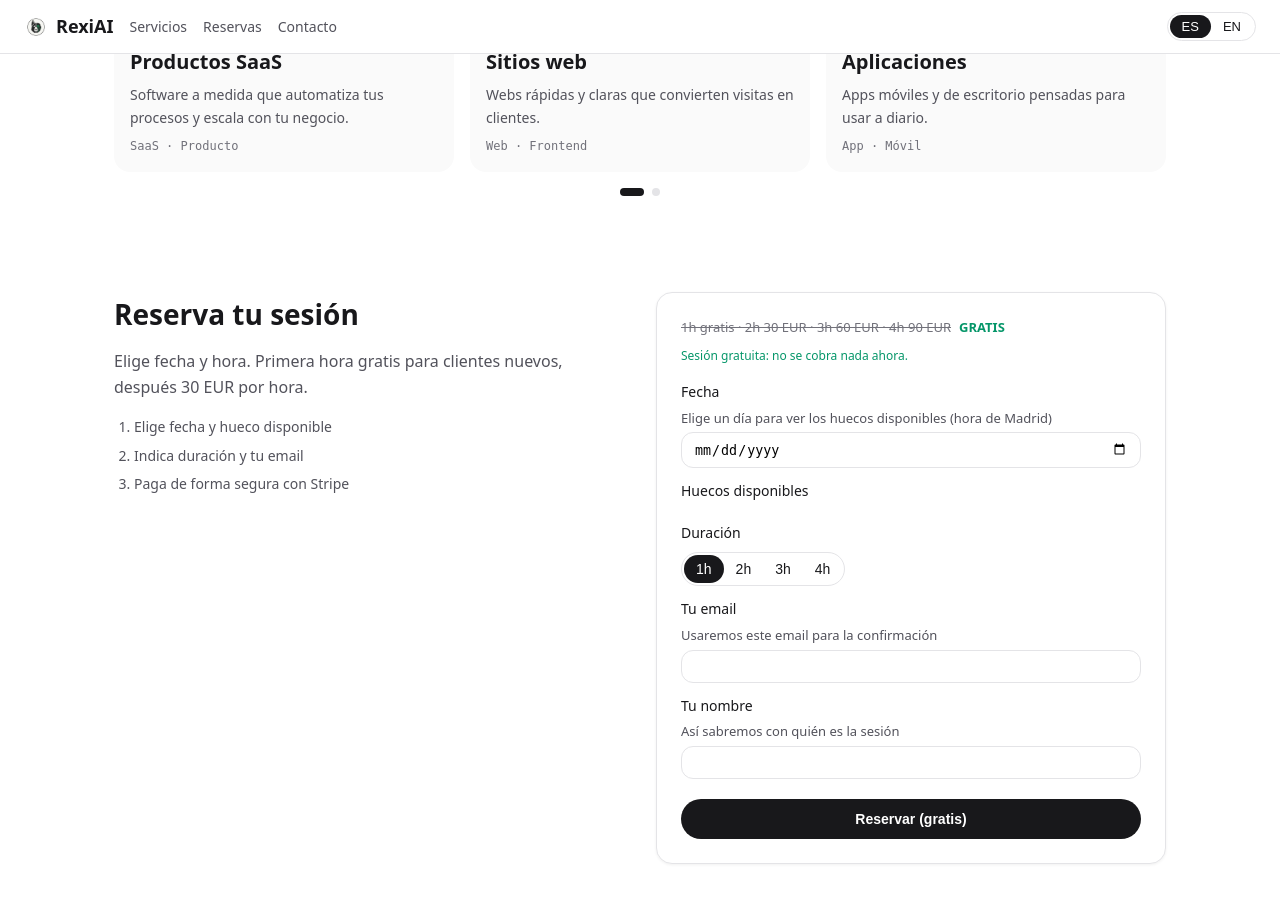
Test: AC-002-17: confirmation panel replaces the form (es) › AC-002-17: panel copy is dictionary-only — no internal-state words leak
The image size is (1280, 900).
(page scrolled)
Type "2027-03-01" into the date field with id "booking-date".
click(911, 450); type("2027-03-01")  # box [681,432,1141,468]
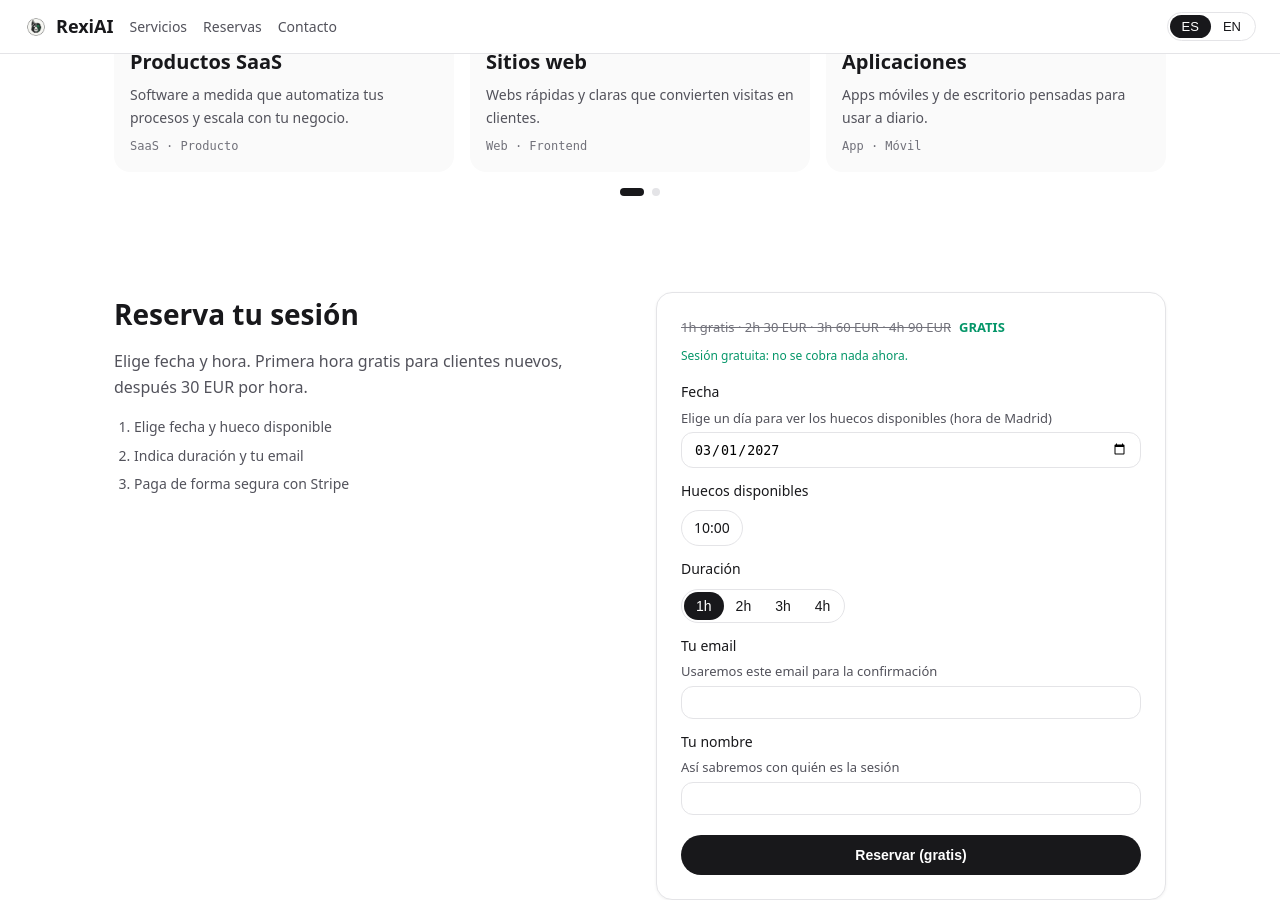
Now the radio button "10:00" is shown
Click the radio button "10:00".
click(712, 528)  # box [681,510,743,546]
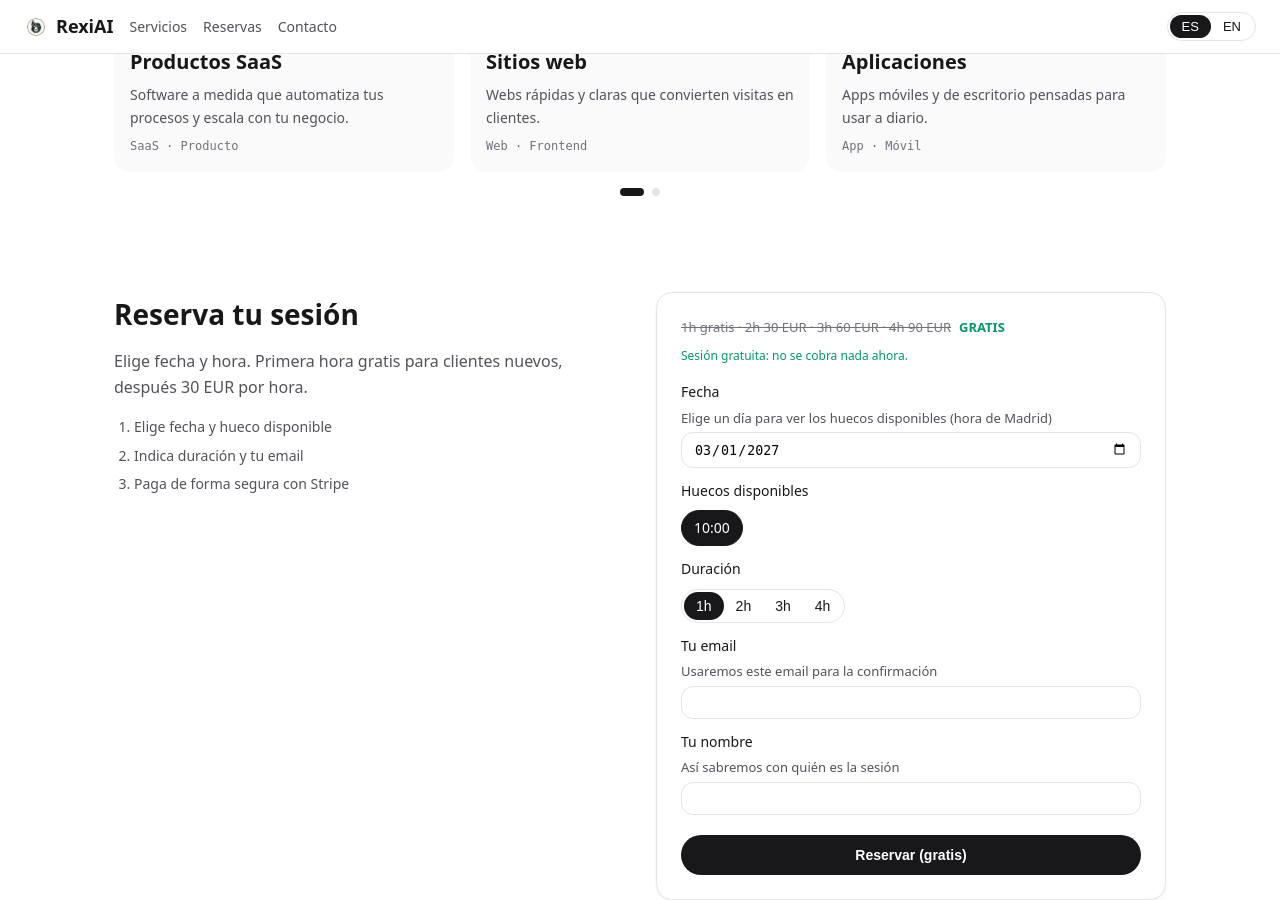
Type "test@example.com" into the field with id "booking-email".
click(911, 702); type("test@example.com")  # box [681,686,1141,719]
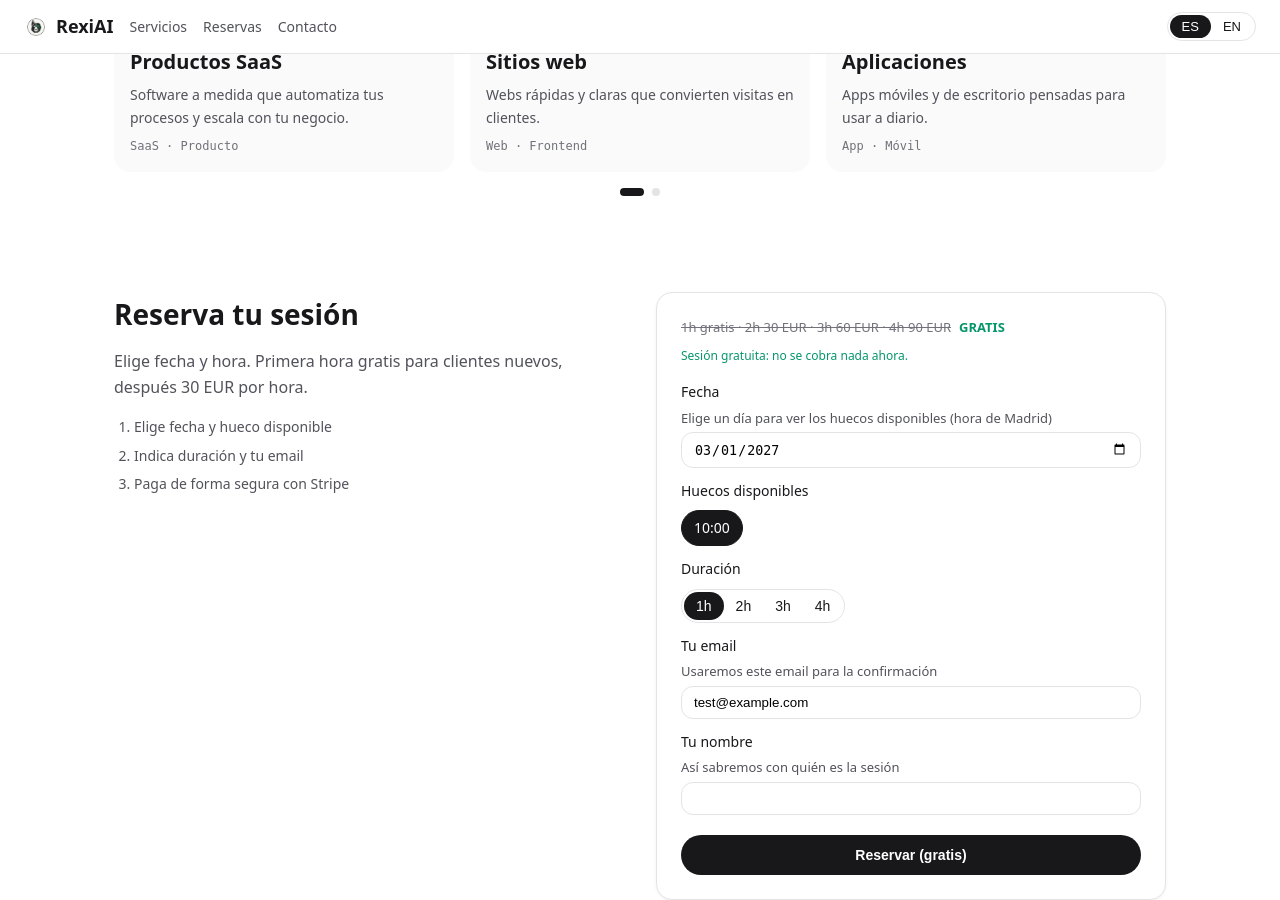
Type "Ana López" into the field with id "booking-name".
click(911, 799); type("Ana López")  # box [681,782,1141,815]
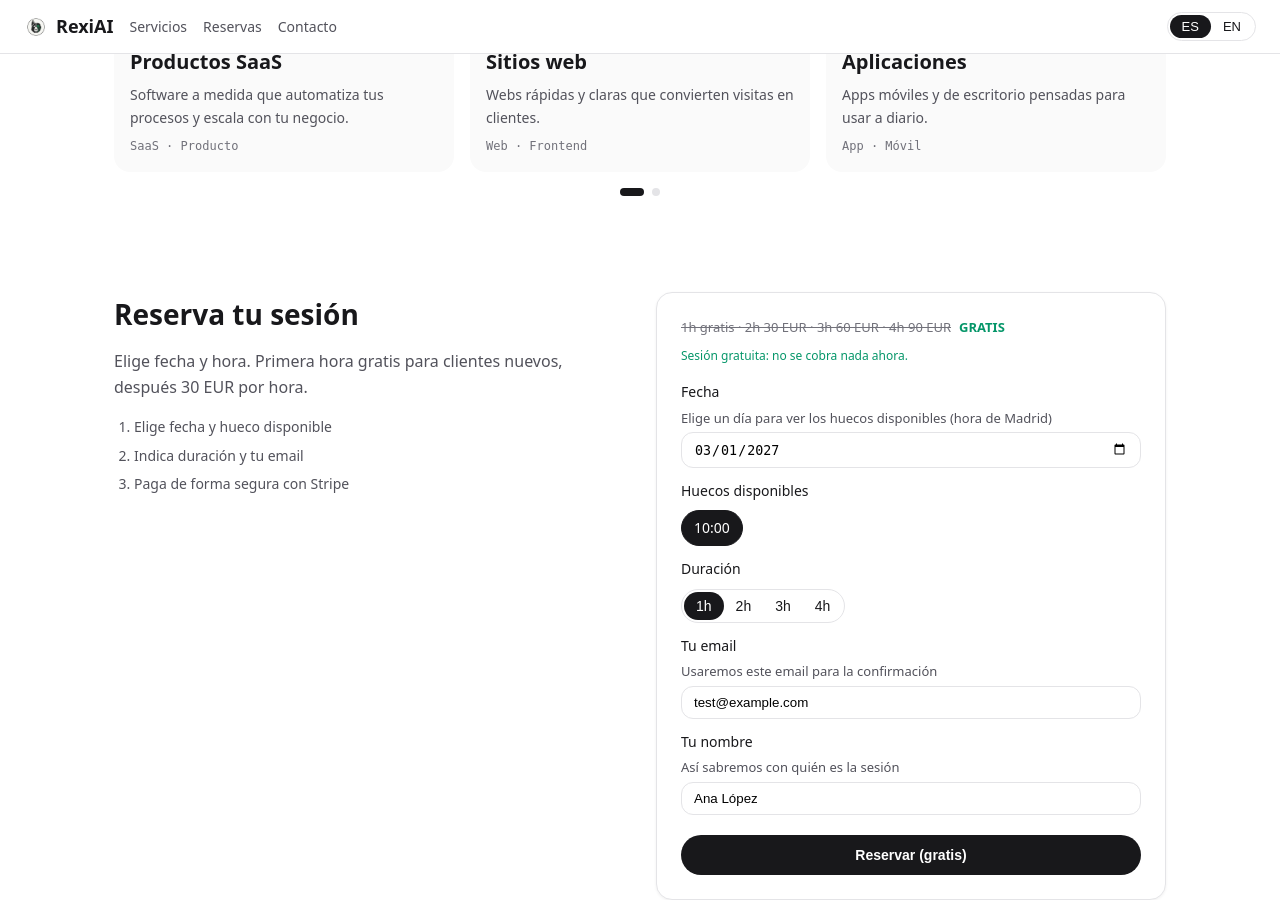
Click the button "Reservar (gratis)".
click(911, 855)  # box [681,835,1141,875]
(page scrolled)
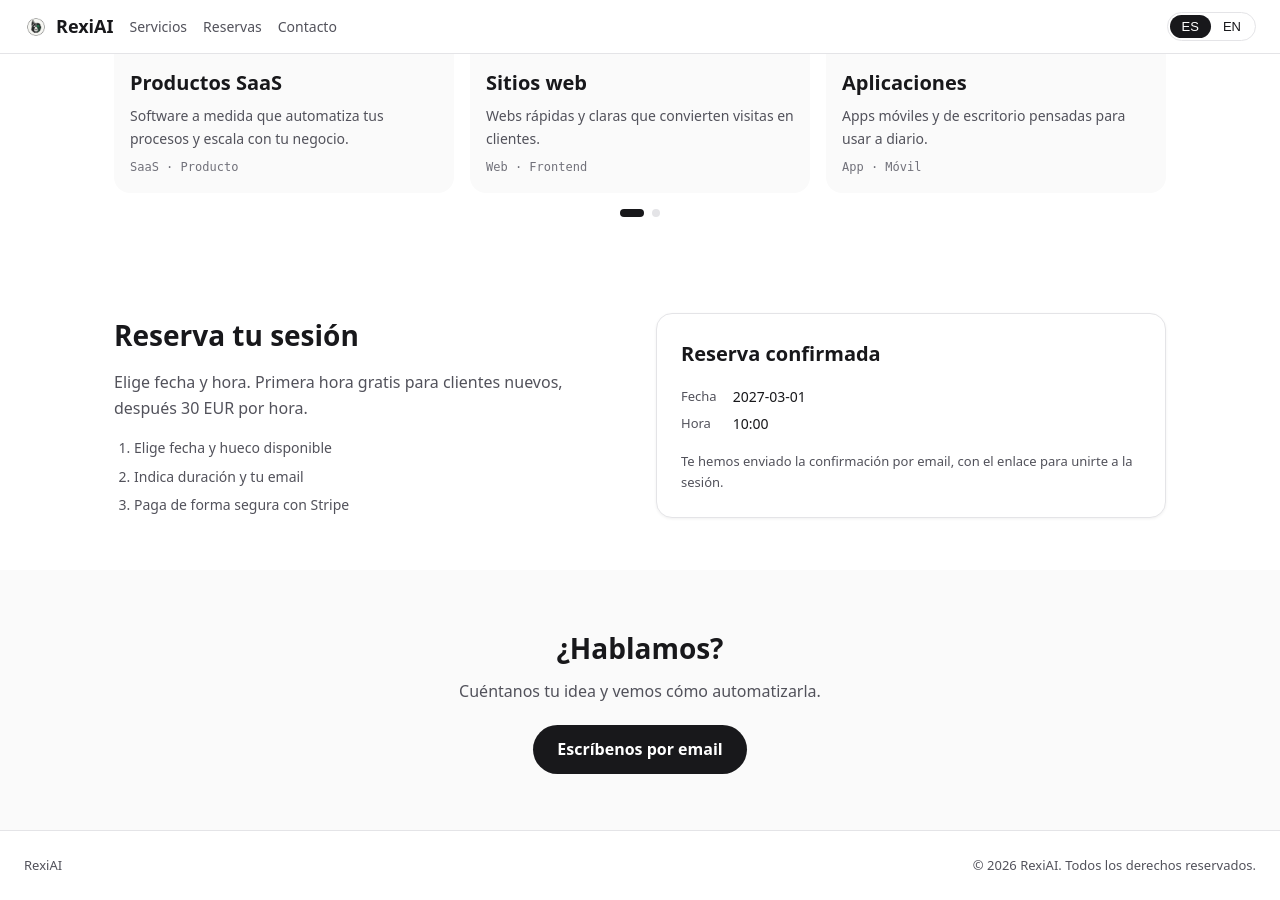
Now the heading "Reserva confirmada" is shown, box [681,340,881,367]
